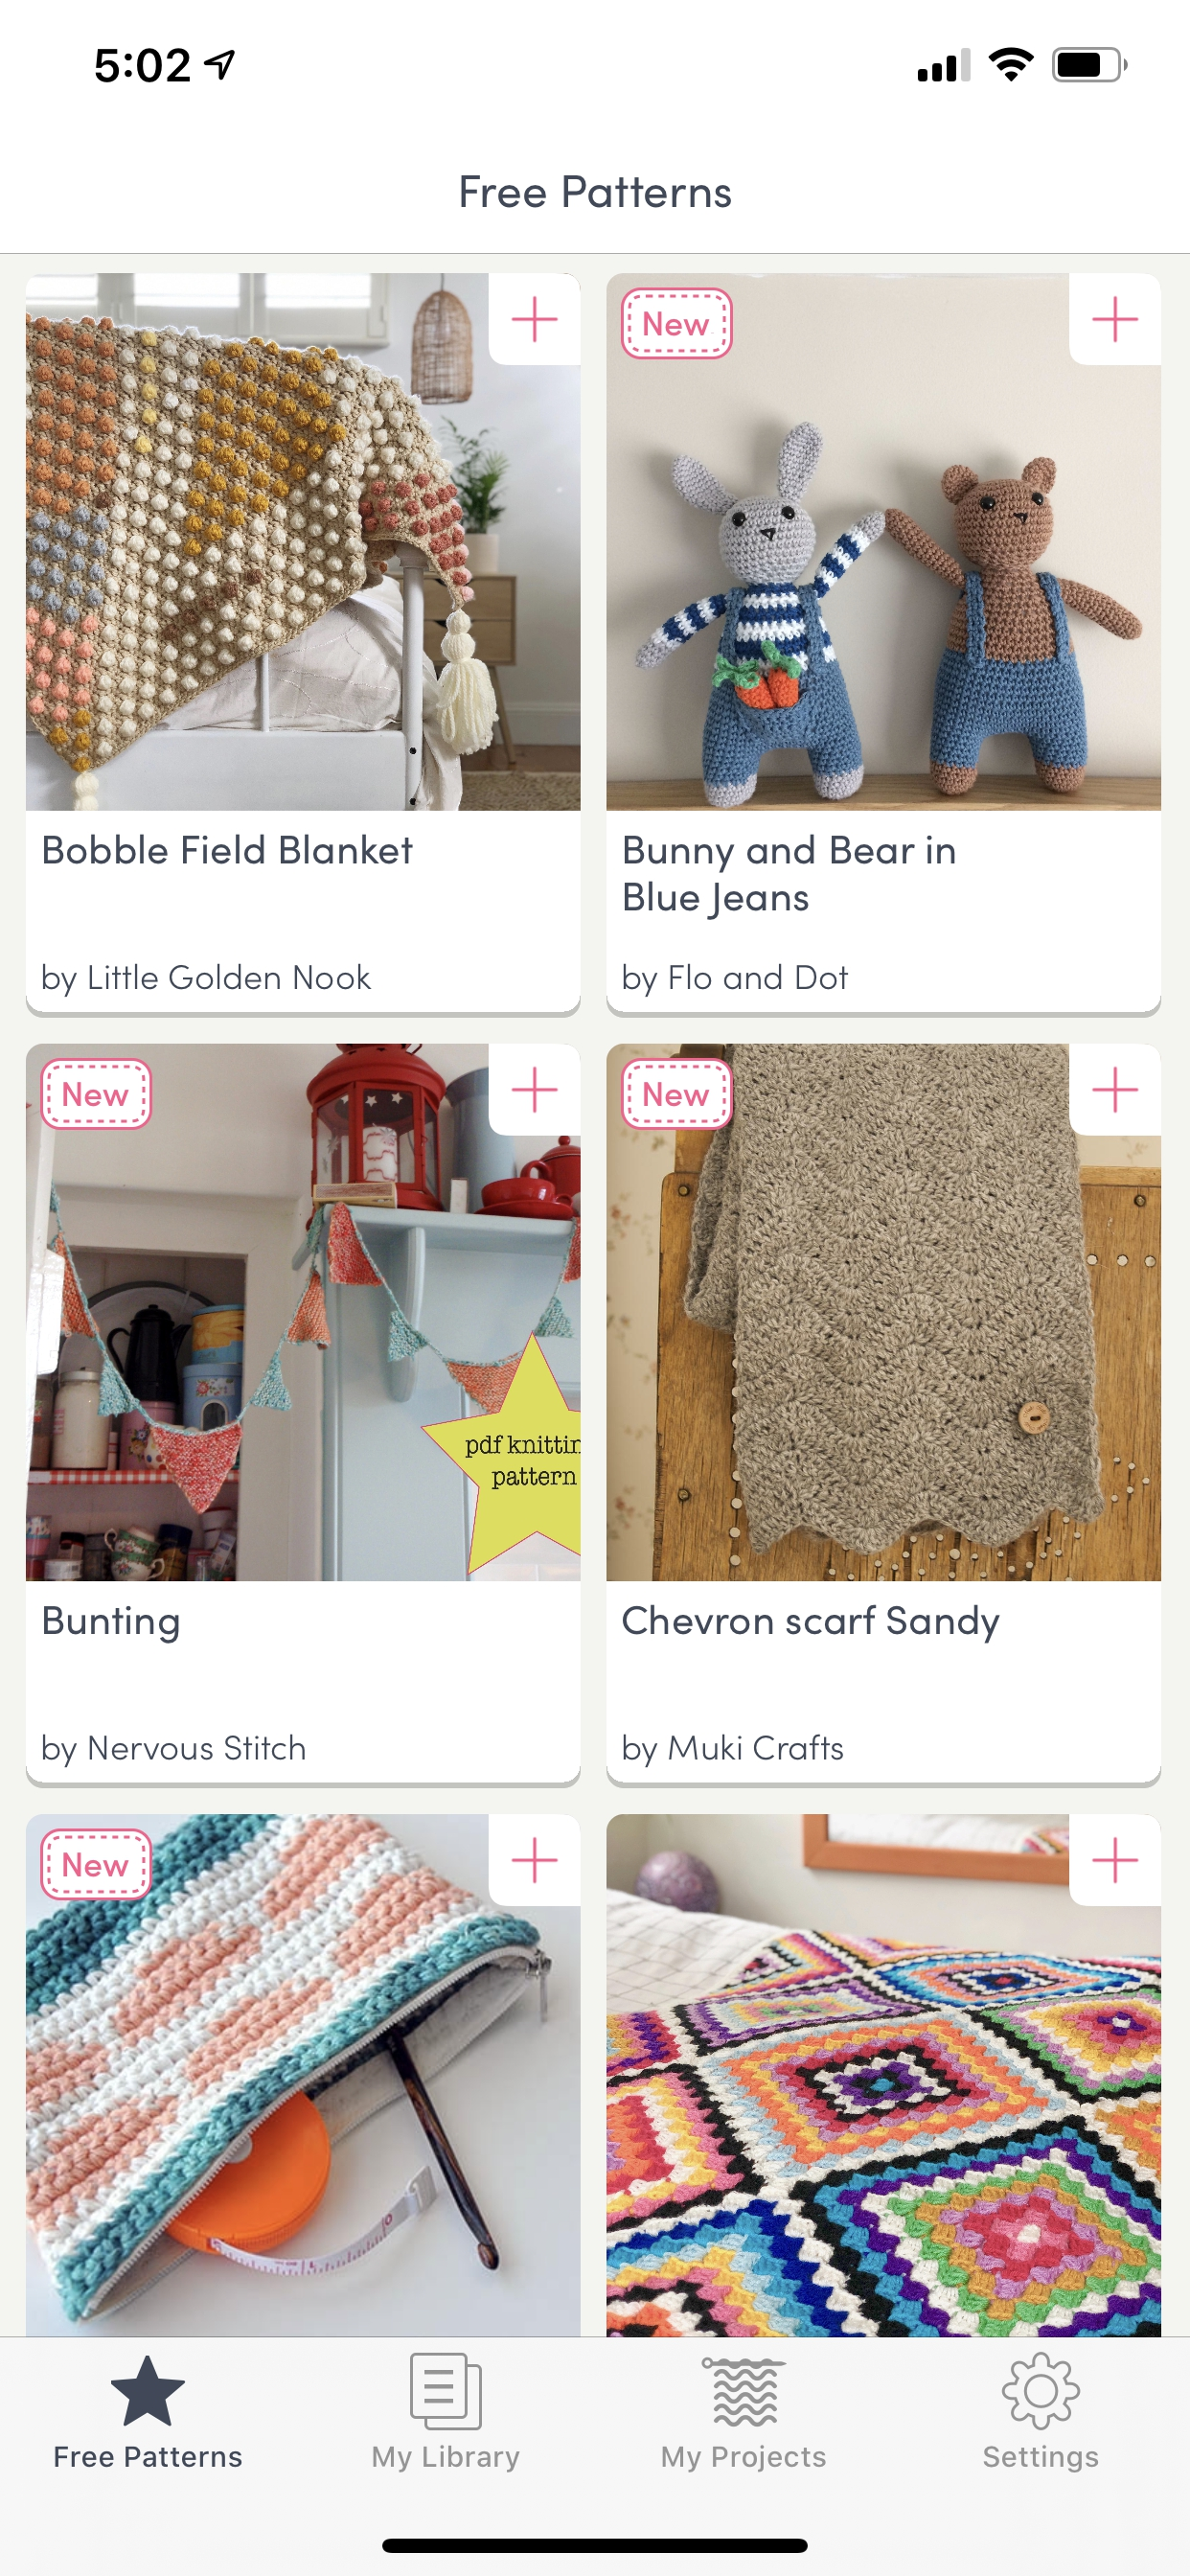Icon: (488, 1814, 580, 1906), (488, 1043, 580, 1135), (1070, 1043, 1162, 1135), (1070, 274, 1162, 366), (488, 273, 580, 365), (1070, 1814, 1160, 1906), (1001, 2351, 1082, 2430), (702, 2356, 787, 2428), (409, 2353, 482, 2430), (112, 2356, 187, 2426)
Image: (607, 1043, 1162, 1582), (26, 1043, 580, 1582), (607, 274, 1162, 812), (26, 274, 580, 812), (607, 1814, 1162, 2336), (26, 1814, 580, 2336)
Text: (625, 835, 955, 920), (623, 1605, 1001, 1643), (43, 963, 371, 997), (44, 835, 413, 864), (43, 1733, 304, 1768), (460, 176, 731, 209), (623, 963, 848, 997), (625, 1735, 845, 1768), (44, 1605, 179, 1643), (662, 2445, 825, 2472), (373, 2445, 521, 2472), (54, 2446, 242, 2468), (983, 2445, 1098, 2472)
UpperTaskBar: (95, 48, 1128, 84)
